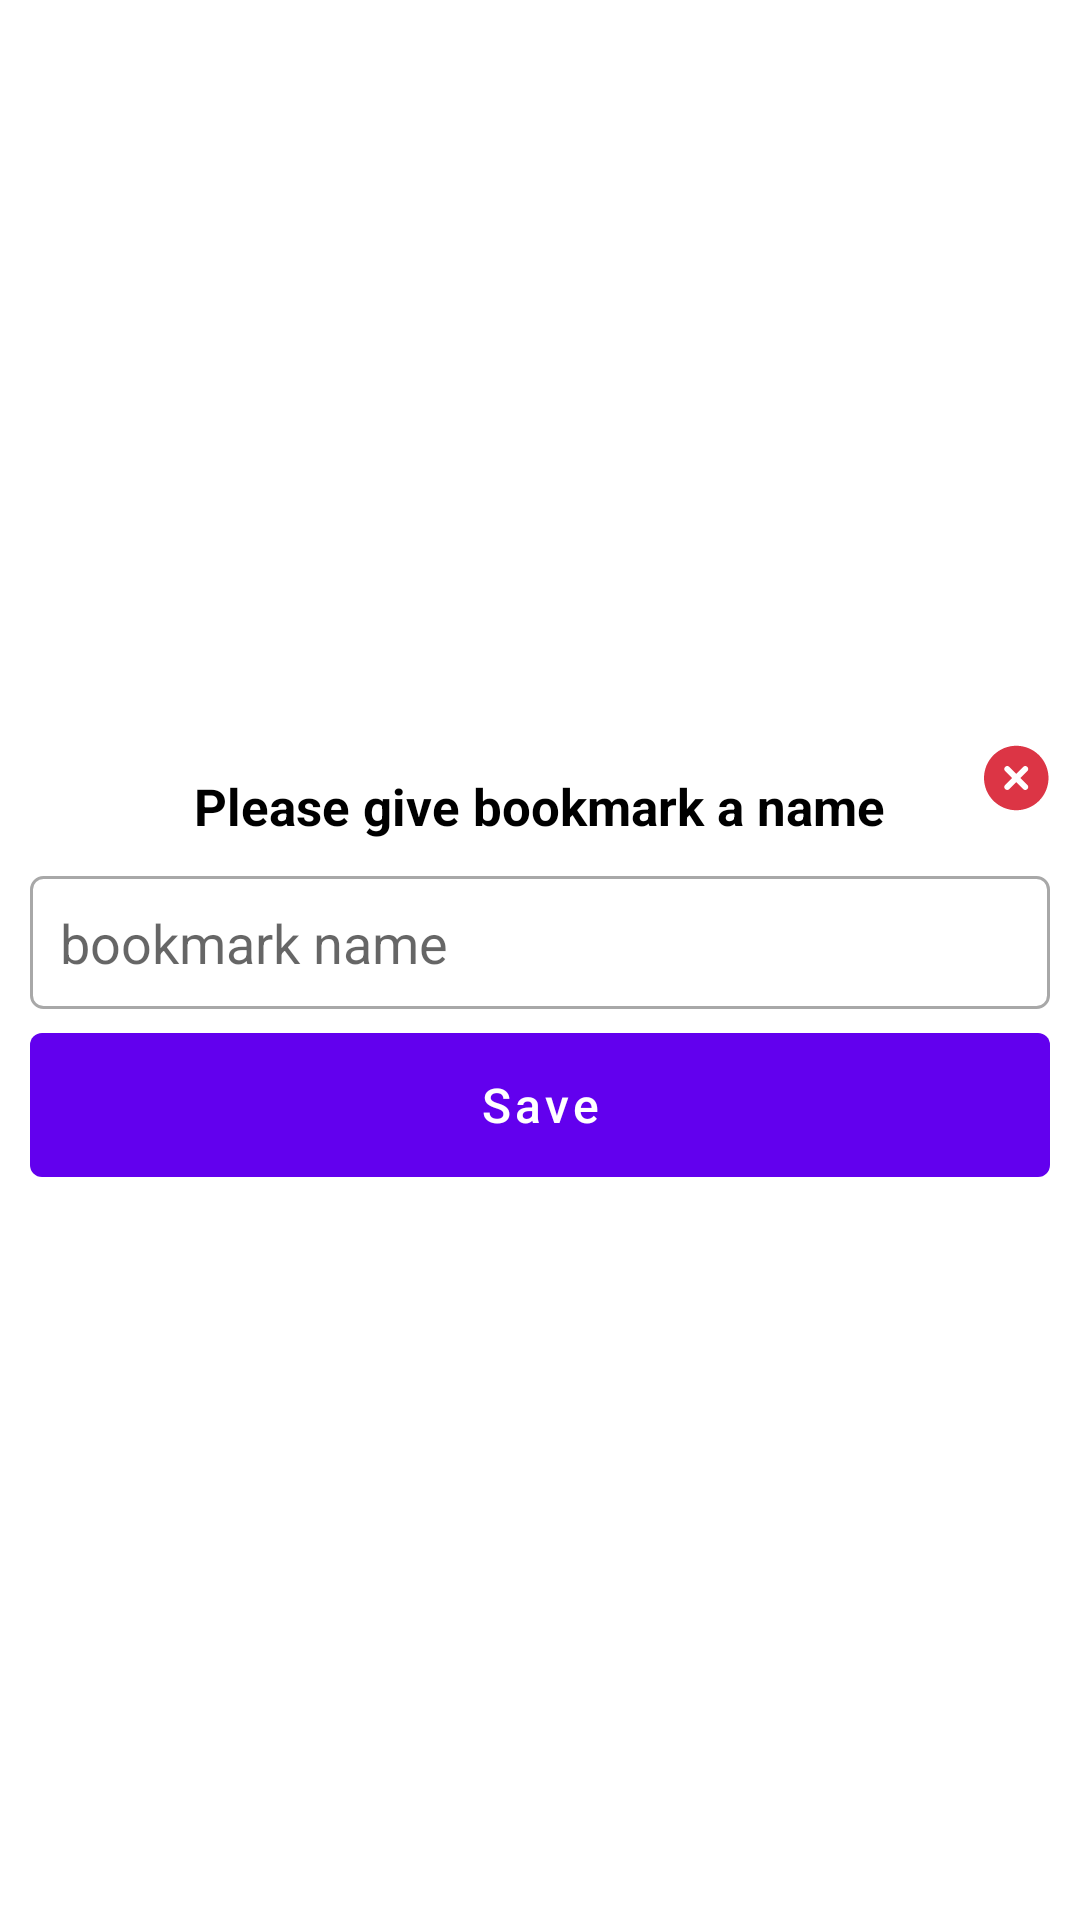

Screen size 1080 x 1920. Icon name, then its box in pixels as [left=x1, top=y1, right=x2, bottom=y2]:
close: [left=984, top=745, right=1049, bottom=811]
